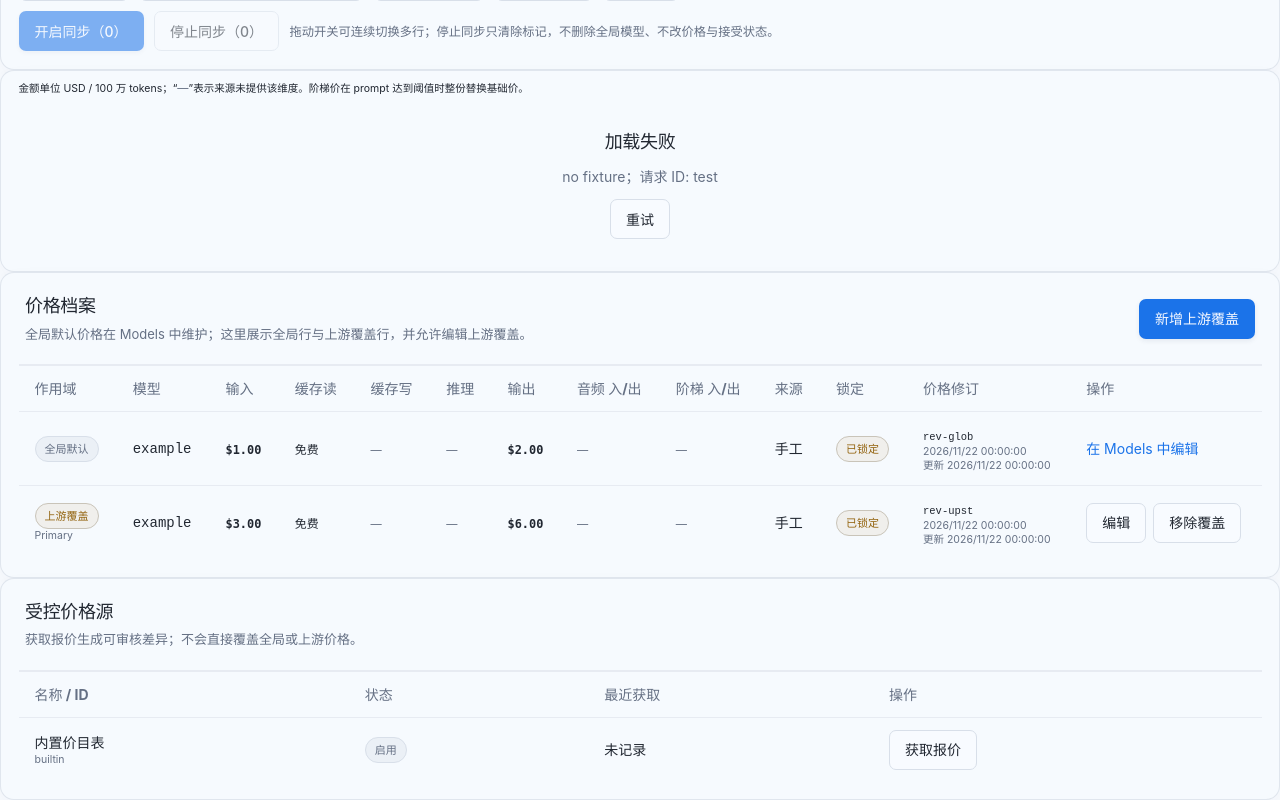
prices surface › renders quote_not_applicable with its own next action
The image size is (1280, 800).
(page scrolled)
Click the button "获取报价" at (933, 750), box [889,730,977,770]
(page scrolled)
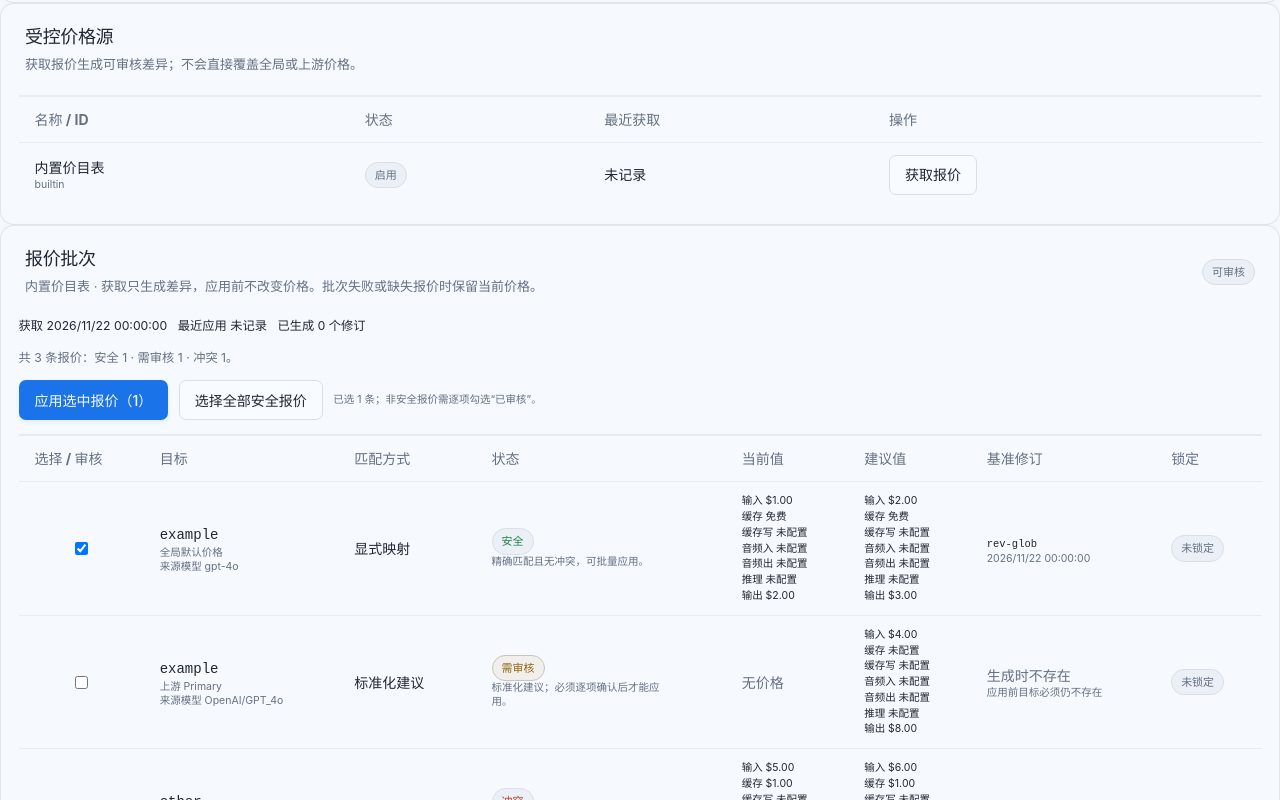
Click the button "应用选中报价（1）" at (93, 400), box [18,380,168,420]
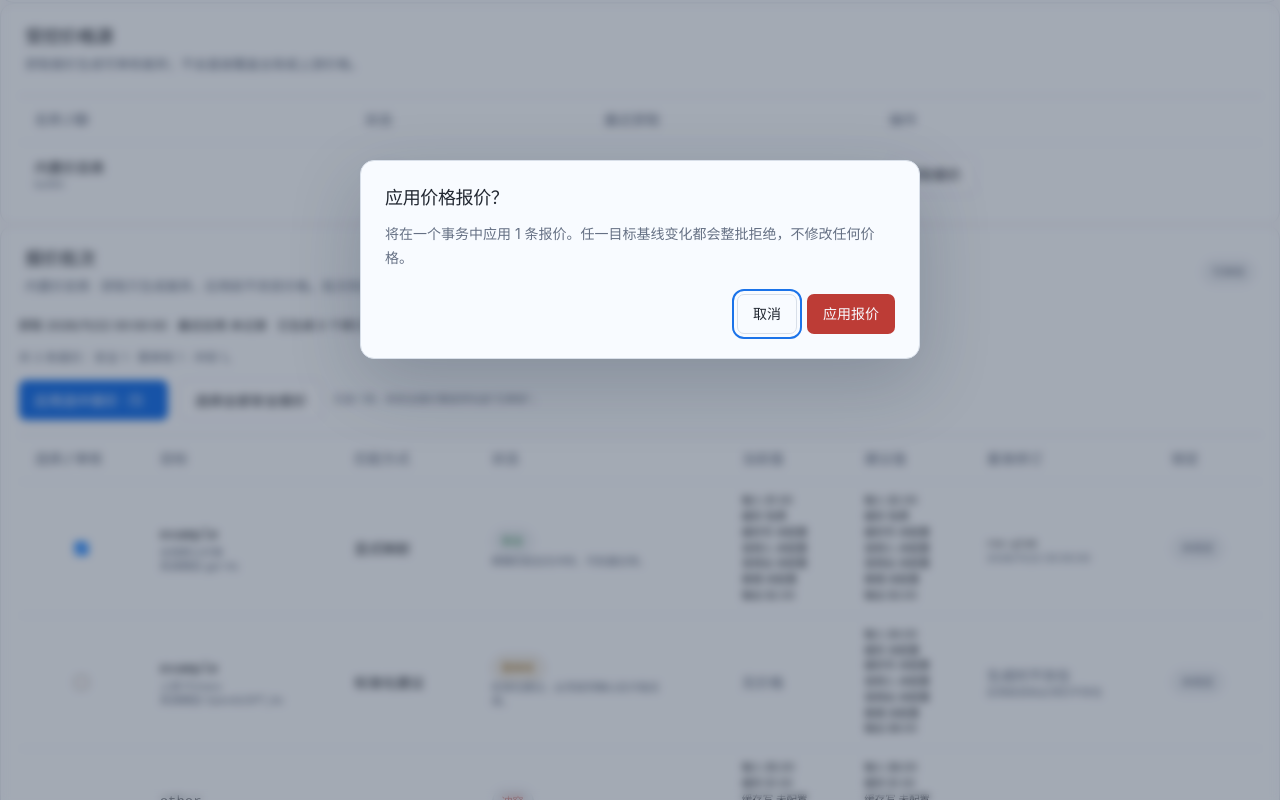
Click the button "应用报价" at (851, 314), box [807,294,895,334]
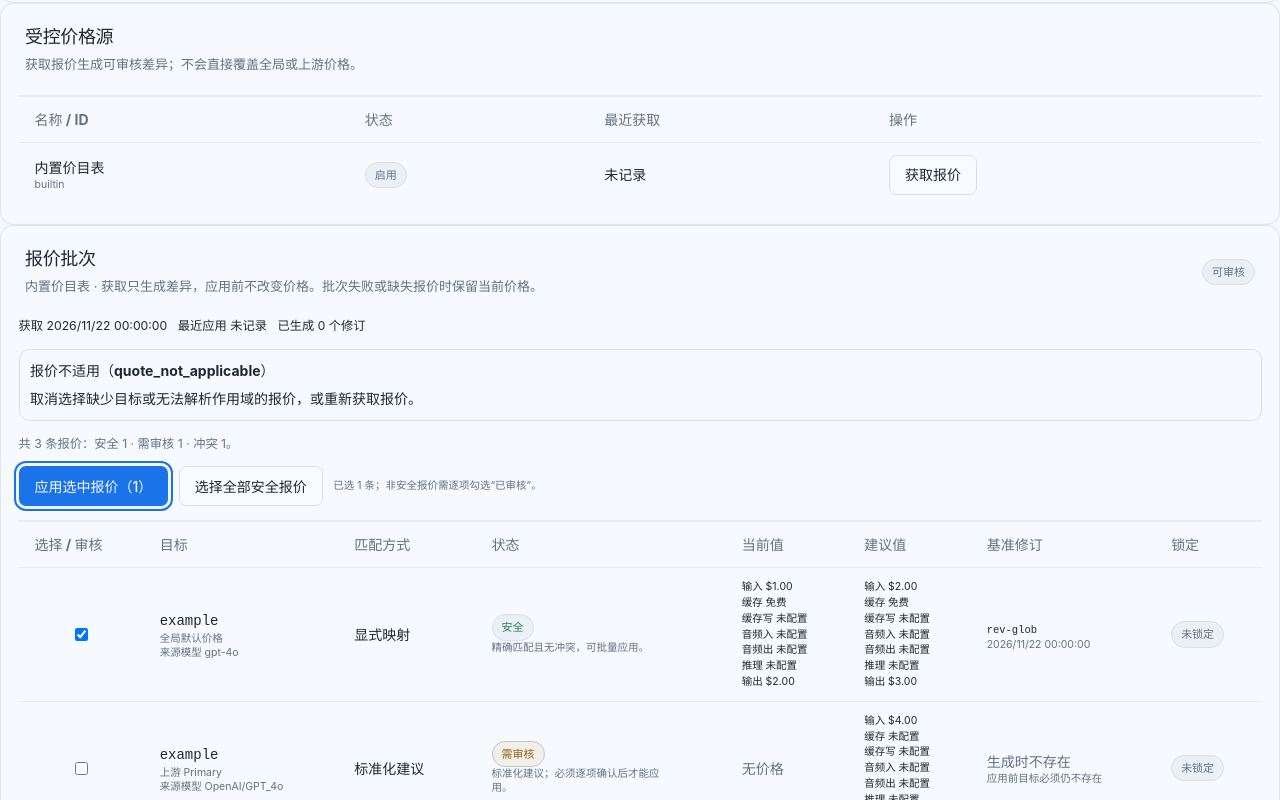
Result: the message "报价不适用（quote_not_applicable） 取消选择缺少目标或无法解析作用域的报价，或重新获取报价。" is shown at [18,349,1262,421]
